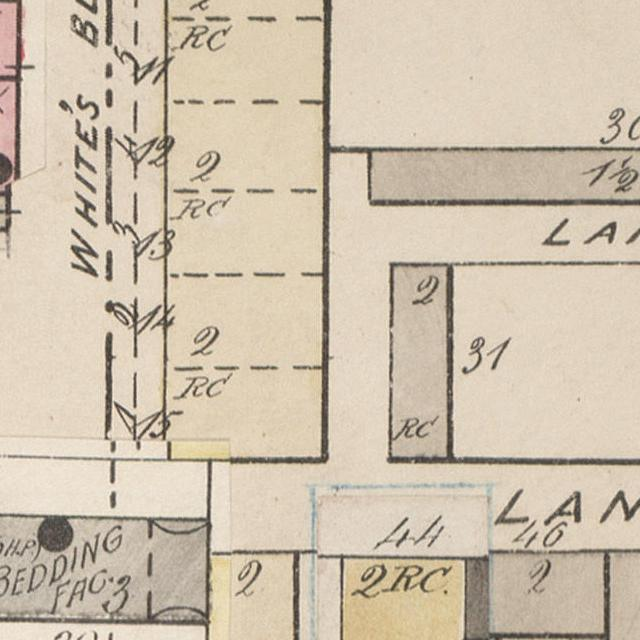building-footprints: (163, 0, 328, 460), (0, 515, 208, 623), (368, 150, 640, 204), (465, 551, 607, 636), (389, 264, 450, 461), (341, 557, 465, 640), (207, 552, 296, 640)
